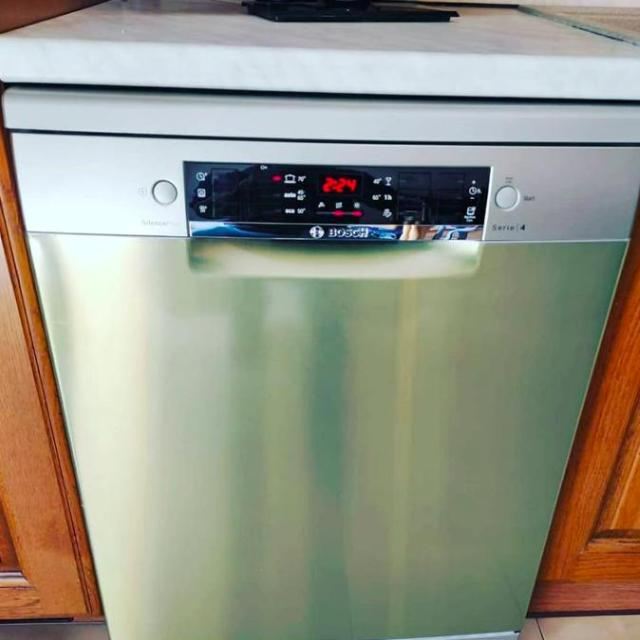dishwasher: (4, 85, 639, 639)
